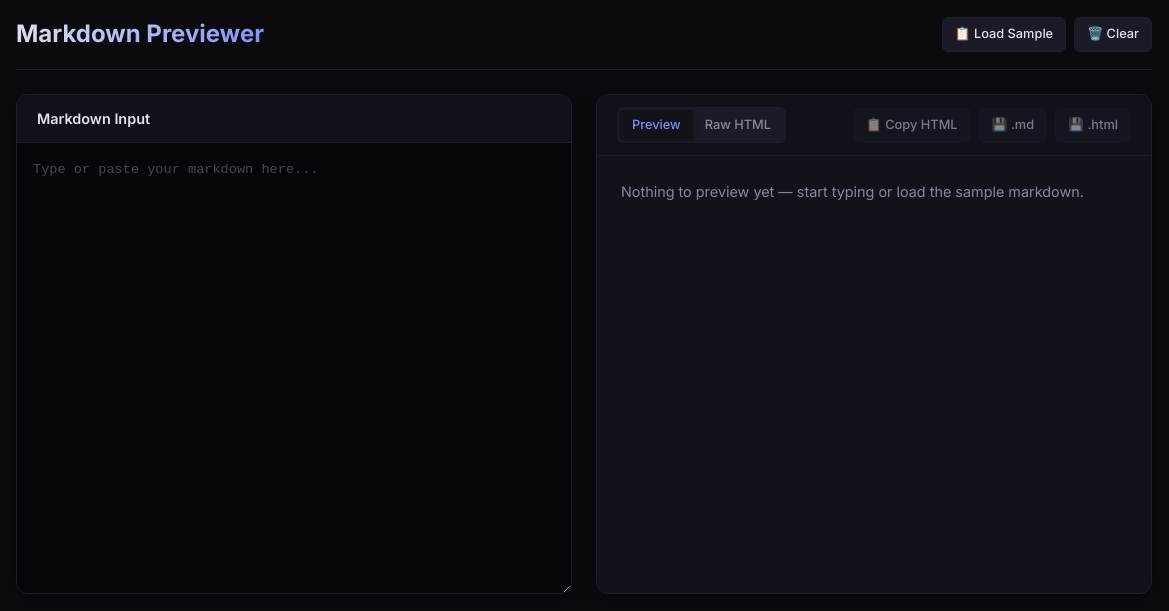
it: MarkdownTool actions › clears the input and returns to the empty state
Type "# Title" into the text box named "Markdown input".
click(294, 368); type("# Title")  # box [17,143,571,593]
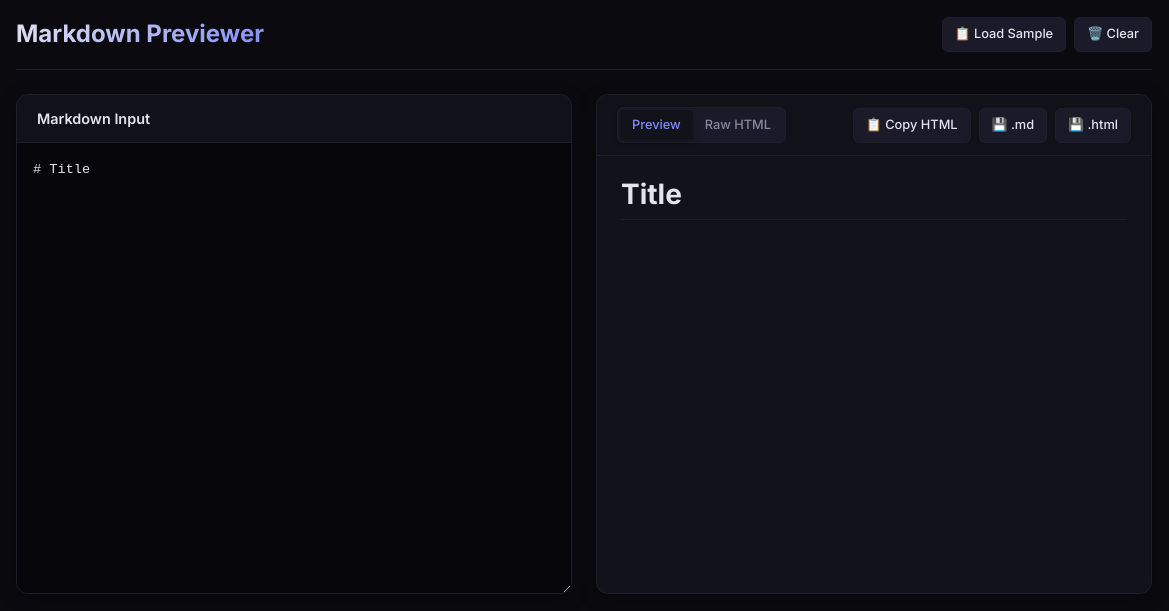
Click the button with aria-label "Clear markdown input".
click(1113, 34)  # box [1074,17,1152,52]
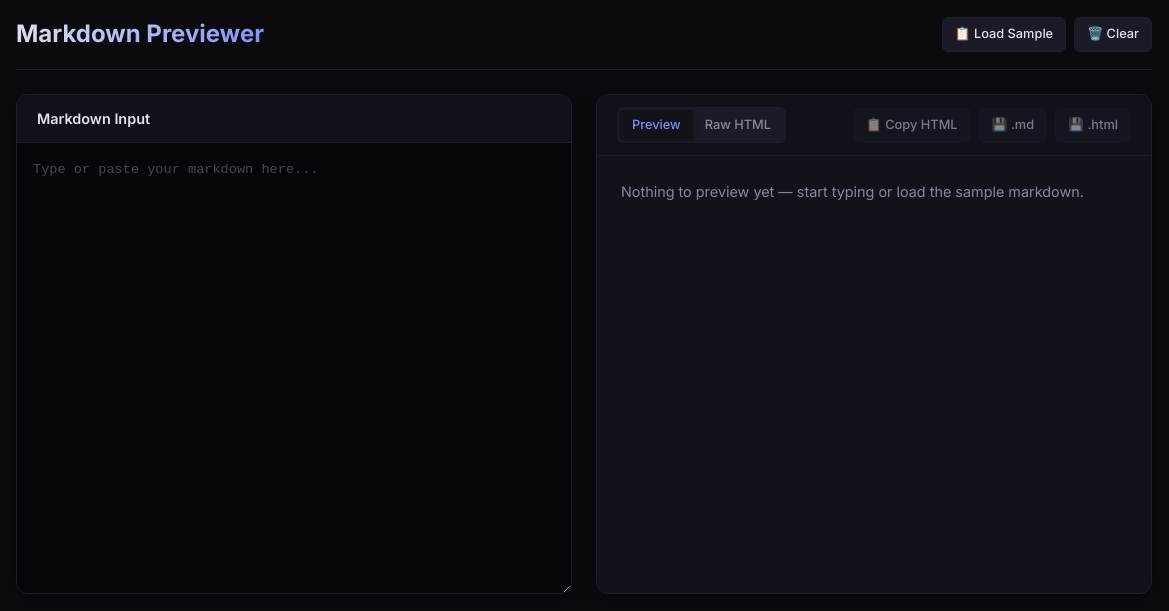
Result: the text box named "Markdown input" is empty at [17,143,571,593]
Result: the text "Nothing to preview yet" is shown at [621,184,1084,200]
